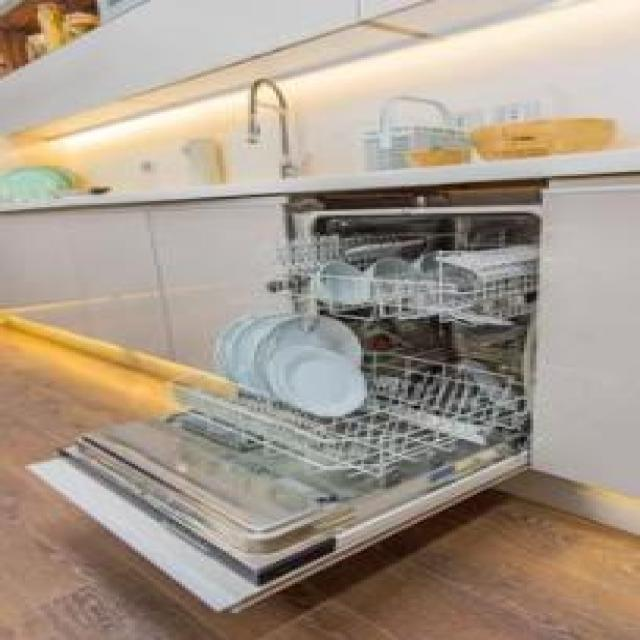dishwasher: (22, 174, 555, 615)
